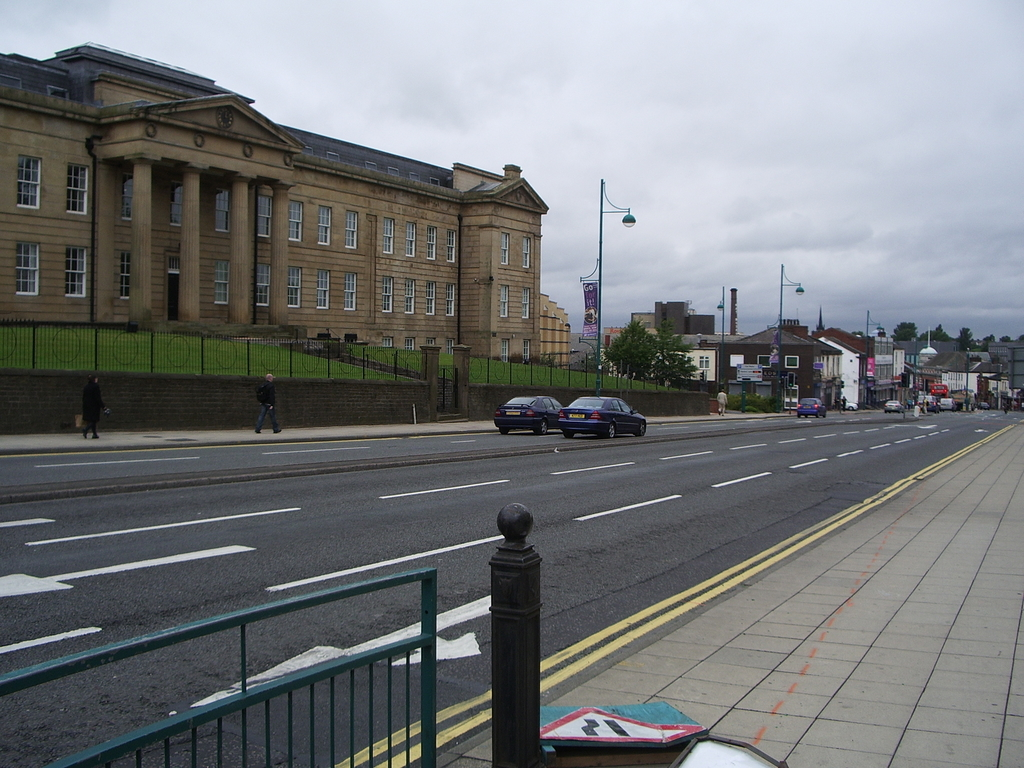Car: (559, 396, 647, 435), (492, 394, 562, 437), (796, 397, 826, 416), (916, 396, 940, 412), (883, 399, 904, 414), (939, 398, 957, 411), (841, 398, 856, 410), (977, 401, 989, 411)
